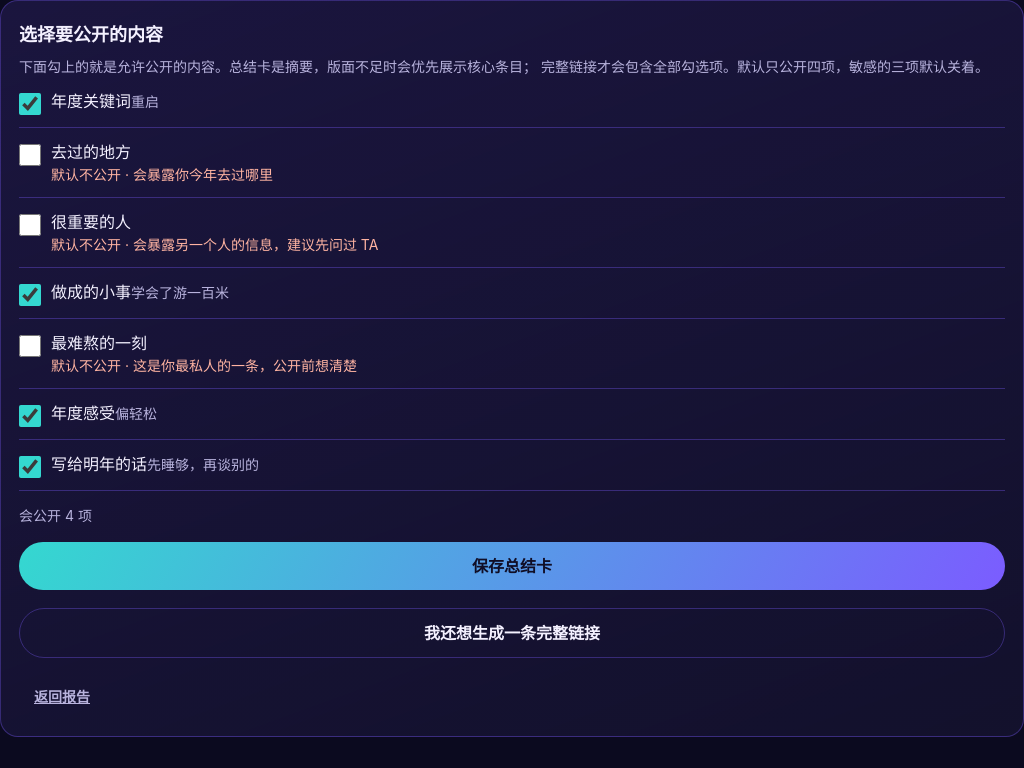
Test case: SharePrivacyScreen › 勾选后预览立刻同步，取消后预览消失
This screenshot has width=1024, height=768.
Expected: the text "县城的老家" is not shown
Click the checkbox labelled "去过的地方 默认不公开 · 会暴露你今年去过哪里" at [30, 155], box left=19, top=144, right=41, bottom=166
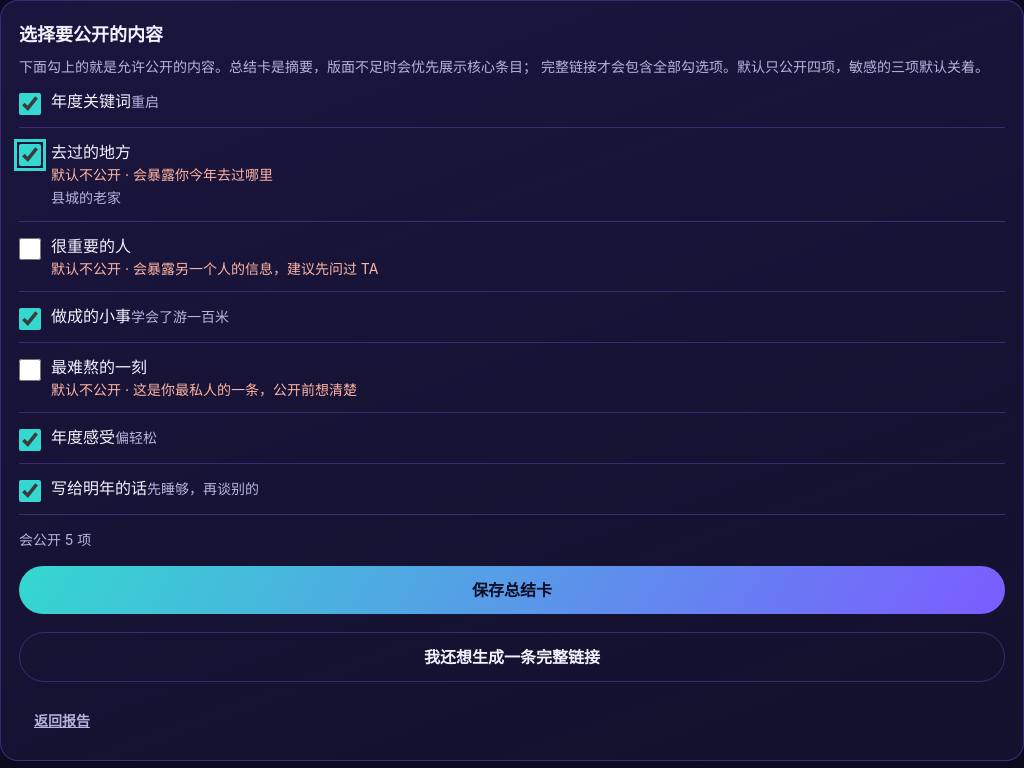
Result: the text "县城的老家" is shown at left=51, top=189, right=121, bottom=206
Result: the message reads "会公开 5 项" at left=19, top=531, right=91, bottom=548
Click the checkbox labelled "去过的地方 默认不公开 · 会暴露你今年去过哪里 县城的老家" at [30, 155], box left=19, top=144, right=41, bottom=166
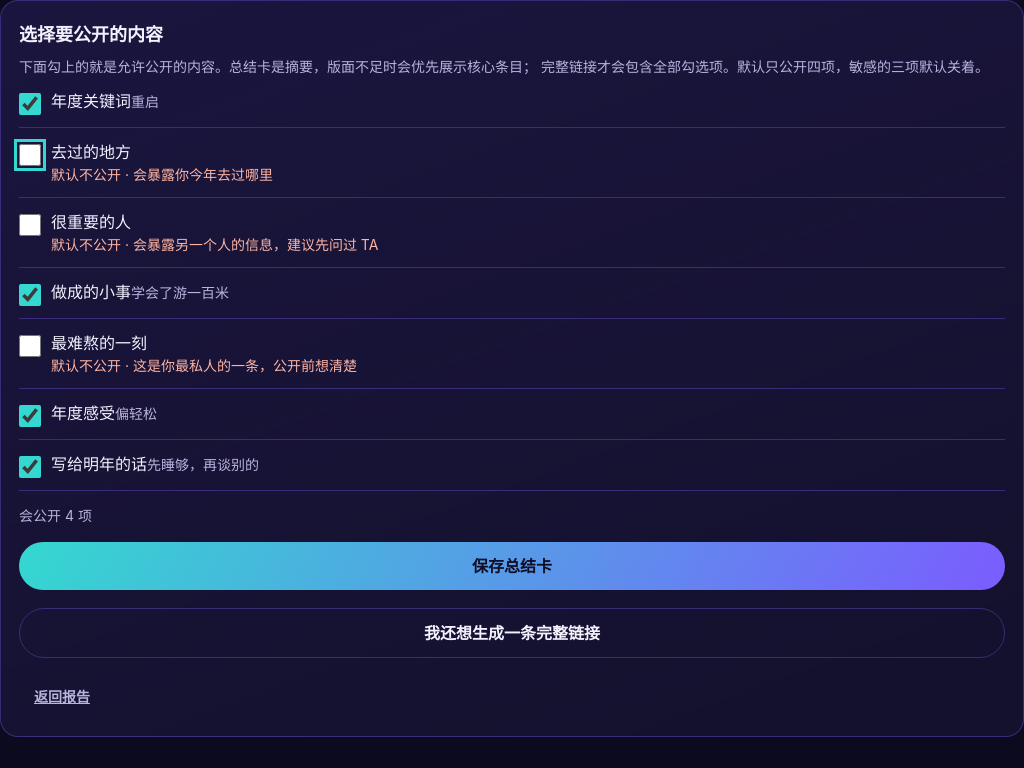
Result: the text "县城的老家" is gone
